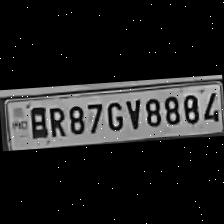4: (198, 87, 222, 123)
7: (84, 100, 104, 136)
8: (140, 93, 162, 128), (64, 101, 86, 135), (178, 88, 198, 124), (160, 92, 180, 126)
B: (25, 104, 48, 139)
G: (102, 97, 124, 132)
R: (44, 102, 65, 138)
V: (122, 95, 142, 131)
